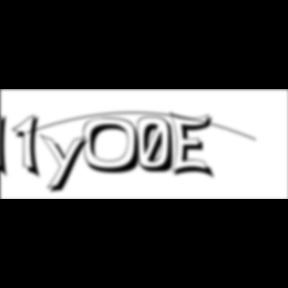0: (136, 115, 182, 174)
1: (12, 114, 46, 182)
E: (170, 110, 218, 182)
O: (83, 117, 148, 176)
l: (0, 108, 14, 182)
y: (40, 132, 94, 196)
